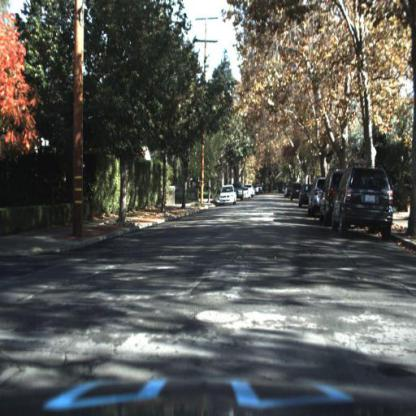car: (318, 170, 347, 227), (319, 168, 335, 225), (308, 175, 324, 217), (310, 176, 323, 221), (298, 182, 316, 210), (218, 183, 238, 208), (289, 179, 305, 203), (220, 184, 239, 203), (235, 182, 245, 205), (242, 185, 252, 202)
